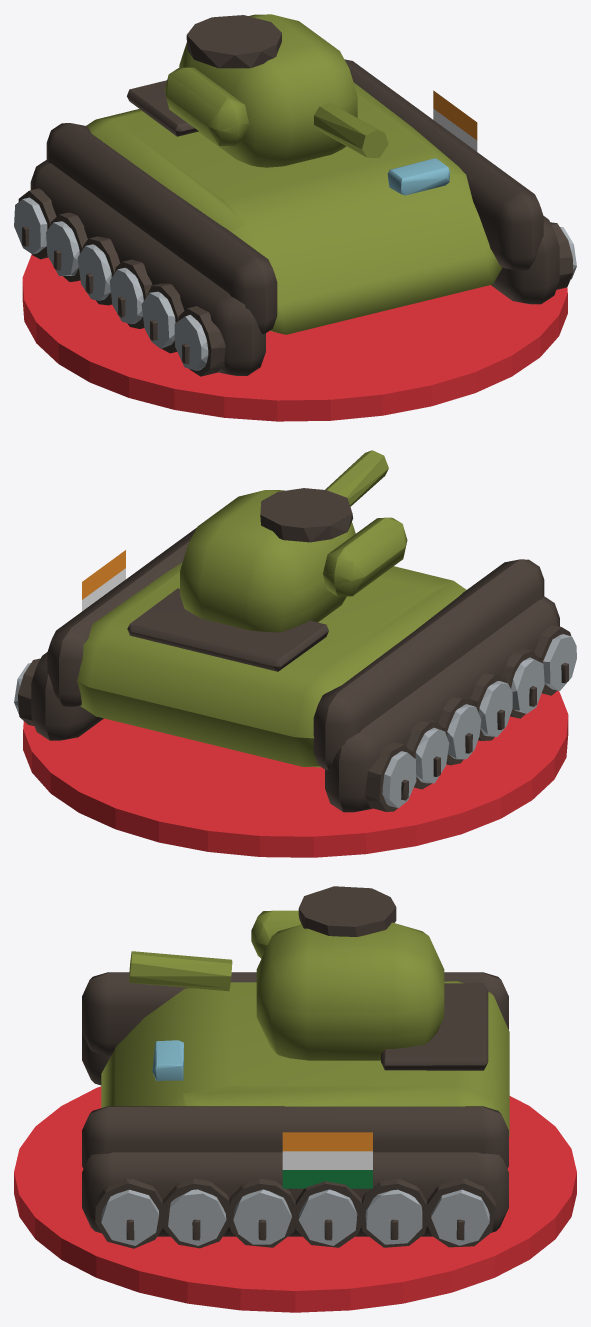
The model's file is india_infantry_lod0.glb.
The picture shows the model from 3 angles, top to bottom: view 1: azimuth 30°, elevation 25°; view 2: azimuth 150°, elevation 25°; view 3: azimuth 270°, elevation 25°; orthographic projection. The views are drawn at different scales.
Parts seen in each view (by area): view 1: body_hull, base_pedestal; view 2: body_hull, base_pedestal; view 3: body_hull, base_pedestal.
Part boxes in pixels (x1,y1,x2,y2): body_hull: (14, 14, 576, 376); base_pedestal: (22, 255, 567, 421); body_hull: (14, 450, 576, 812); base_pedestal: (23, 691, 568, 857); body_hull: (82, 886, 509, 1248); base_pedestal: (14, 1086, 576, 1312).
Bounding box in the file's own units: 0.78 × 0.412 × 0.78.
